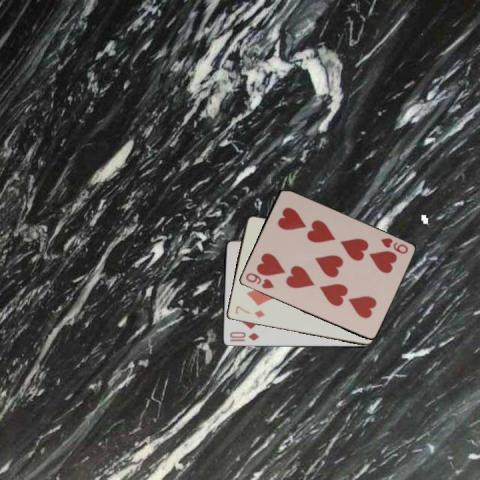10d: (227, 329, 260, 342)
7d: (232, 303, 266, 319)
9h: (243, 270, 275, 290), (378, 235, 410, 255)
